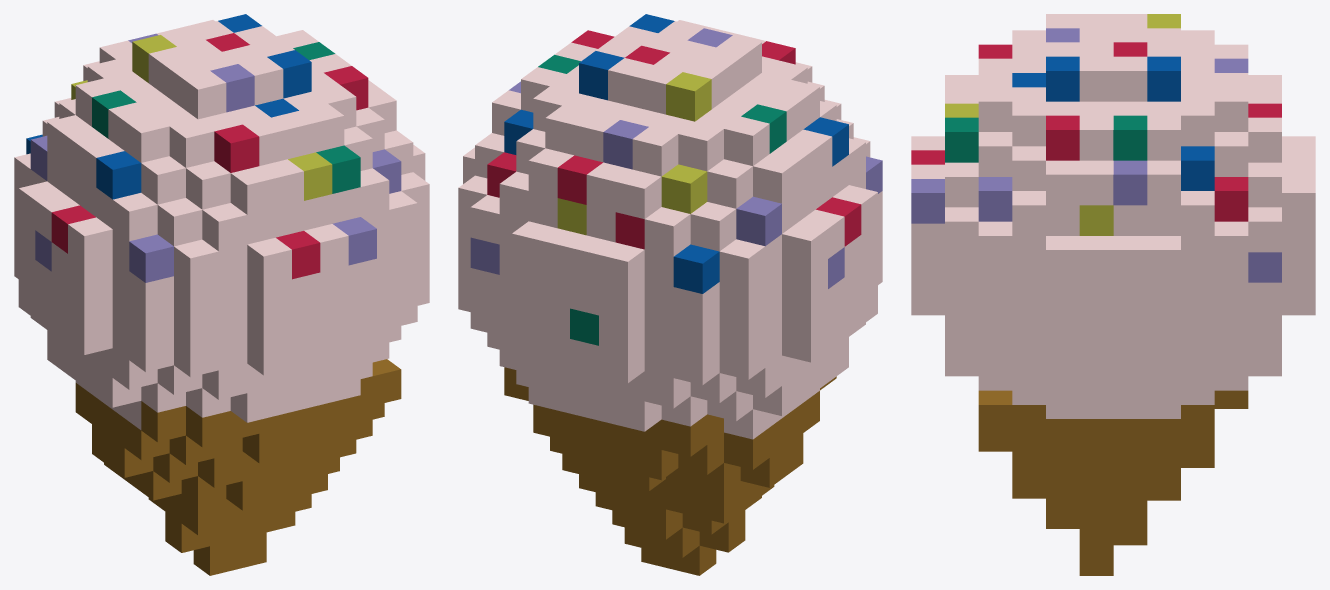
File: id-beach-iceream2.obj
3 renders of one model, left to right at view 1: azimuth 30°, elevation 25°; view 2: azimuth 150°, elevation 25°; view 3: azimuth 270°, elevation 25°, orthographic. The views are drawn at different scales.
Bounding box in the file's own units: 12 × 17 × 12.
1 material, 1 textured.
